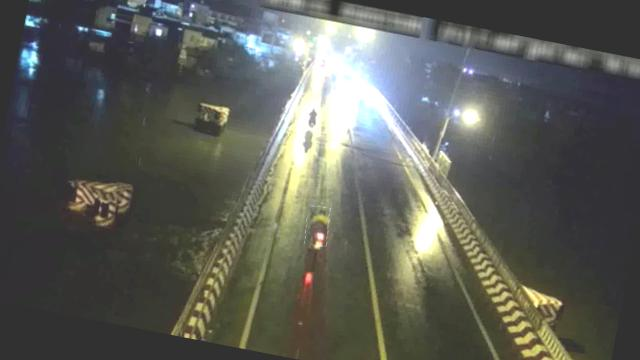Bike: (302, 204, 332, 248), (302, 103, 322, 132)
